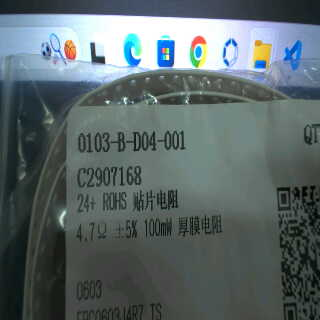4.7R: (77, 215, 109, 245)
